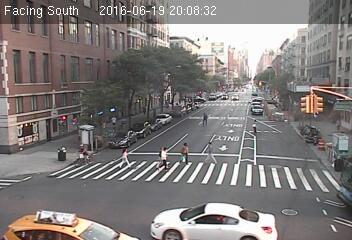neg: (69, 136, 92, 167), (32, 152, 55, 183), (190, 56, 210, 83), (96, 96, 113, 119), (142, 67, 155, 84), (241, 60, 252, 75)
pos: (201, 139, 220, 164), (177, 139, 195, 162), (155, 144, 172, 167), (117, 144, 132, 164), (195, 110, 209, 129)
